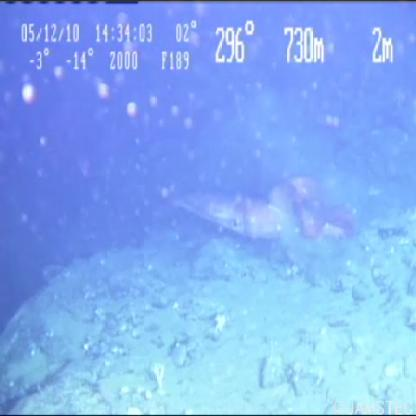Bio: (164, 168, 365, 246)
